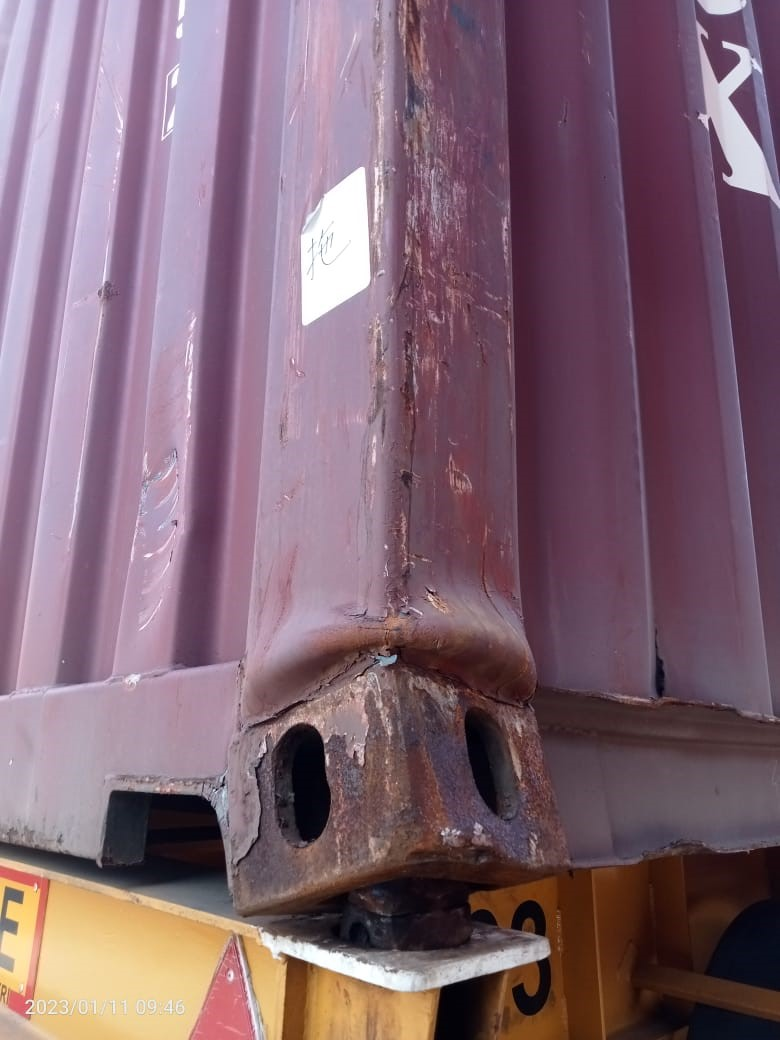dented: (235, 485, 570, 762)
